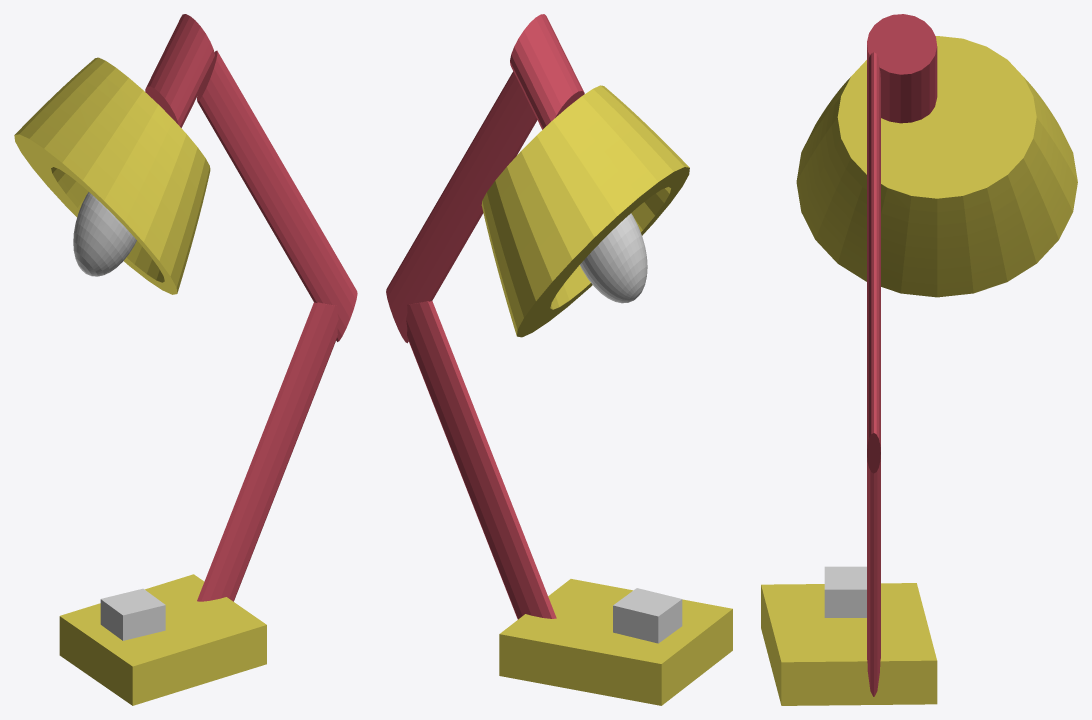
Rendered from Table.glb.
The picture shows the model from 3 angles, left to right: view 1: azimuth 30°, elevation 25°; view 2: azimuth 150°, elevation 25°; view 3: azimuth 270°, elevation 25°; orthographic projection. The views are drawn at different scales.
Parts seen in each view (by area): view 1: Mesh_Mesh_head_geo.001_lambert2SG.001; view 2: Mesh_Mesh_head_geo.001_lambert2SG.001; view 3: Mesh_Mesh_head_geo.001_lambert2SG.001.
Part boxes in pixels (x1=…): Mesh_Mesh_head_geo.001_lambert2SG.001: x1=14, y1=14, x2=357, y2=705; Mesh_Mesh_head_geo.001_lambert2SG.001: x1=386, y1=14, x2=732, y2=705; Mesh_Mesh_head_geo.001_lambert2SG.001: x1=761, y1=14, x2=1077, y2=705.
Size of the model in its own units: 21.85 by 45 by 19.
